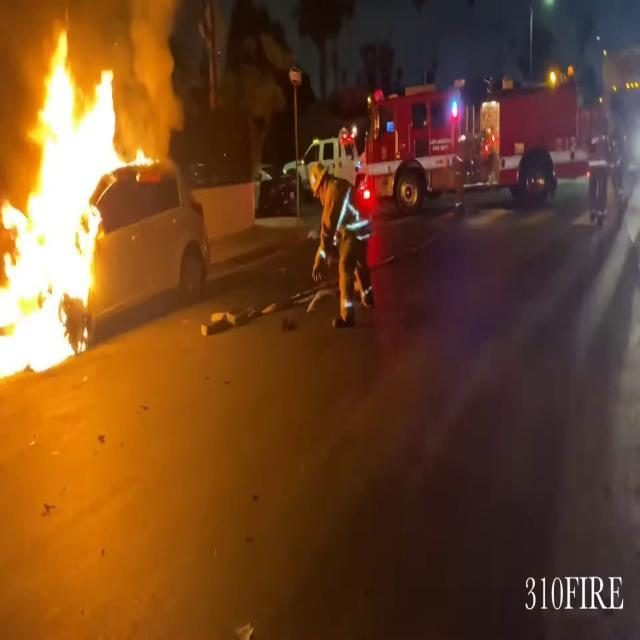Fire: (0, 22, 150, 384)
